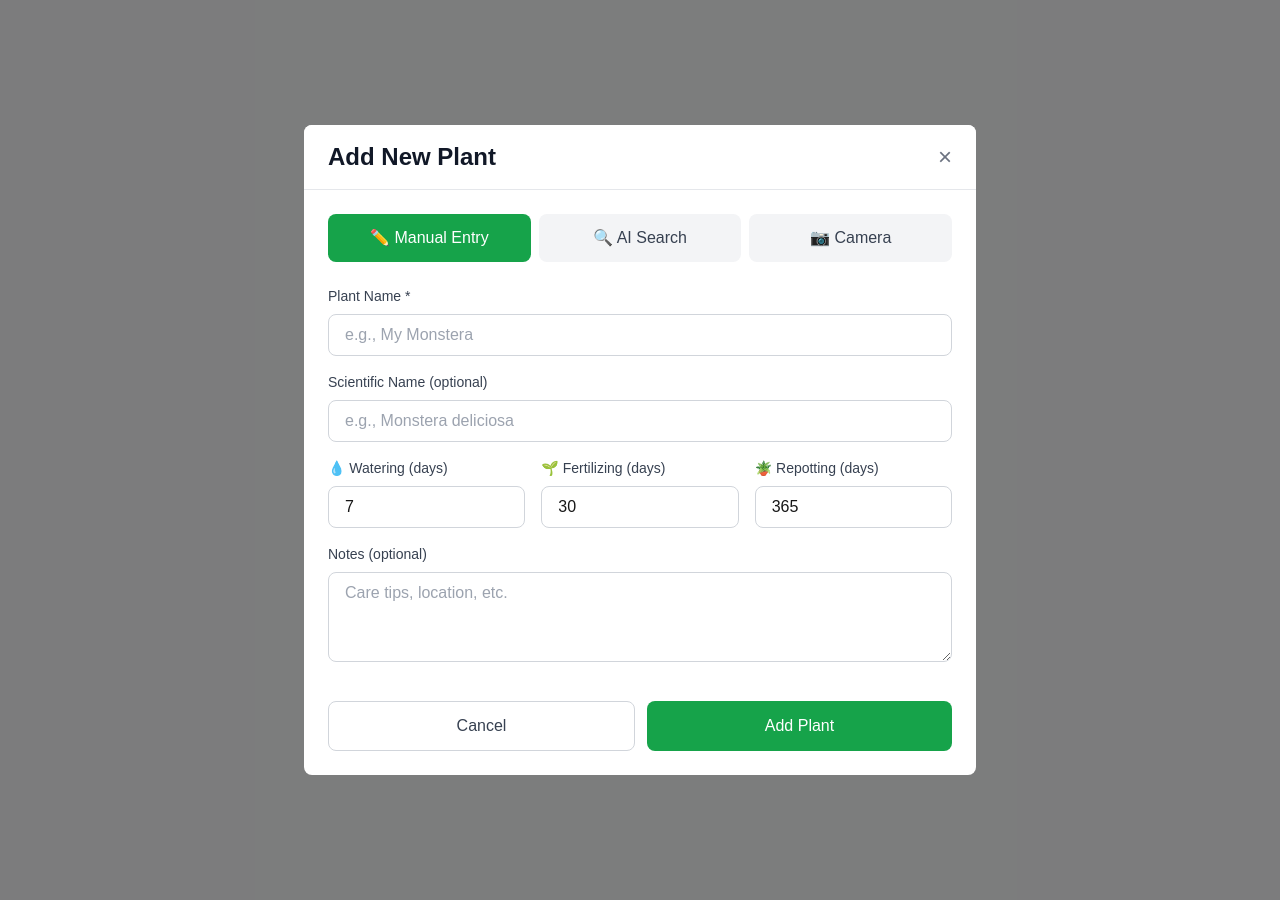
Scenario: AddPlantModal › shows the API-provided error instead of blaming the API key (ISSUES.md #18)
Click the button "🔍 AI Search" at [640, 238], box [539,214,741,262]
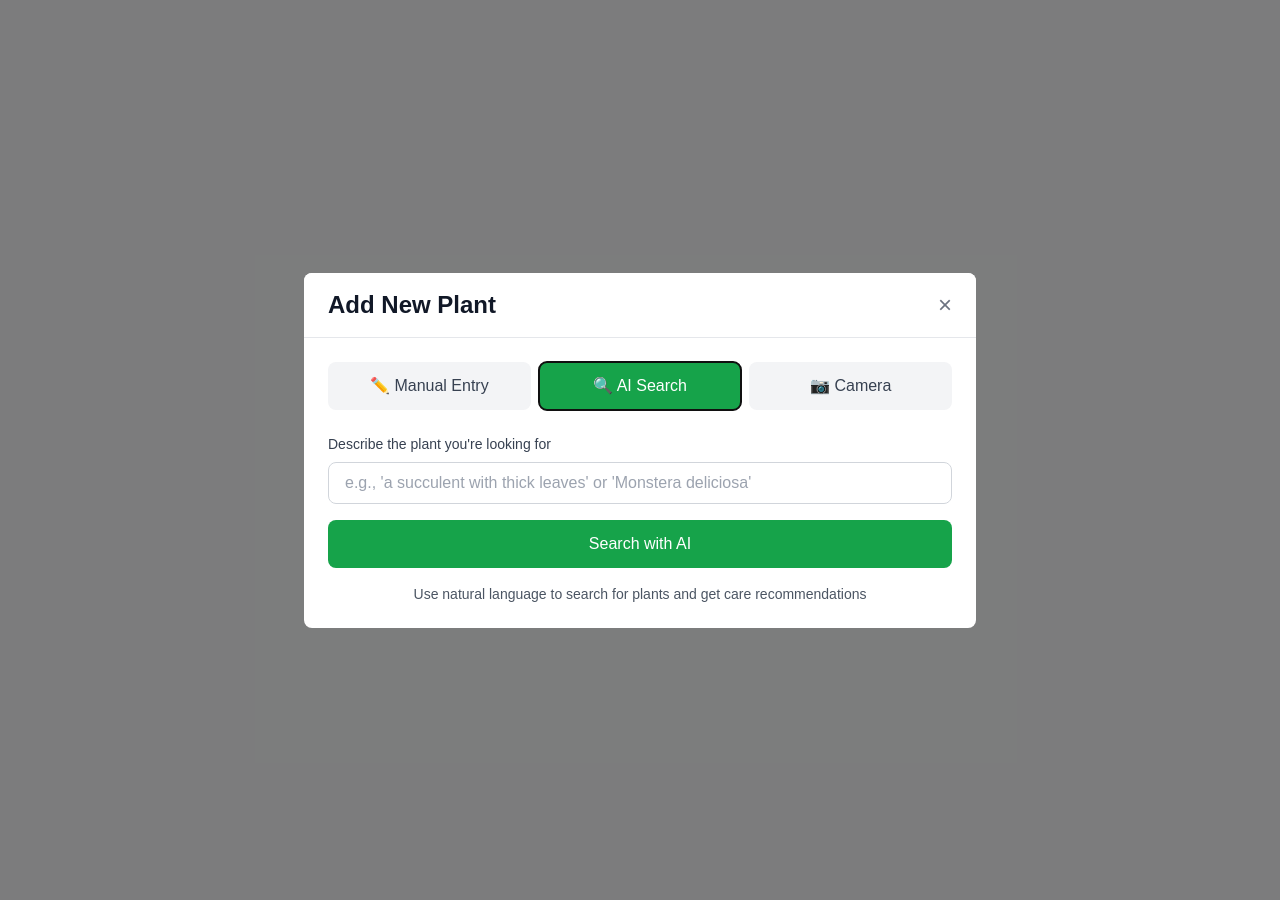
Type "monstera" into the field with placeholder "a succulent with thick leaves" at [640, 482], box [328,462,952,504]
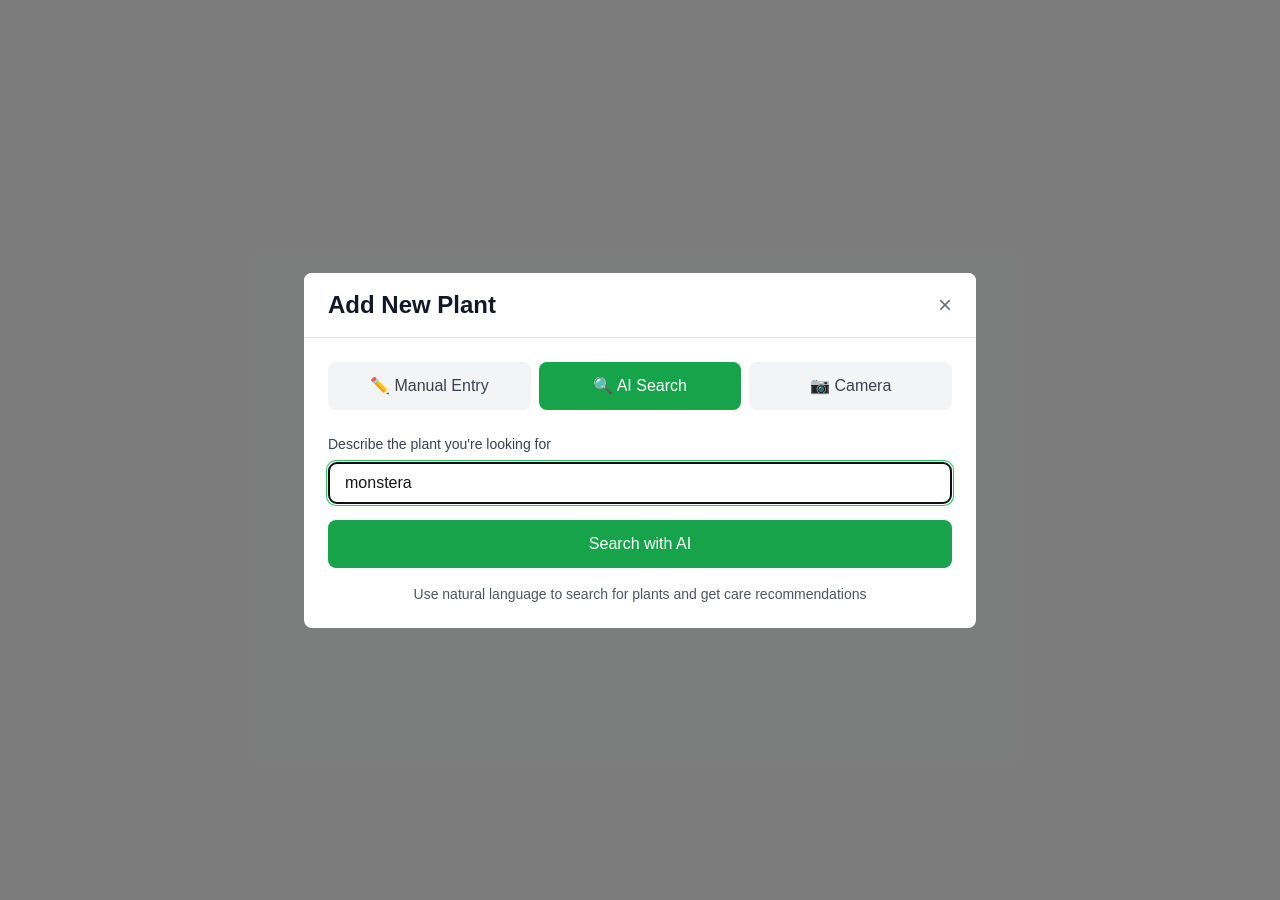
Click the button "Search with AI" at [640, 544], box [328,520,952,568]
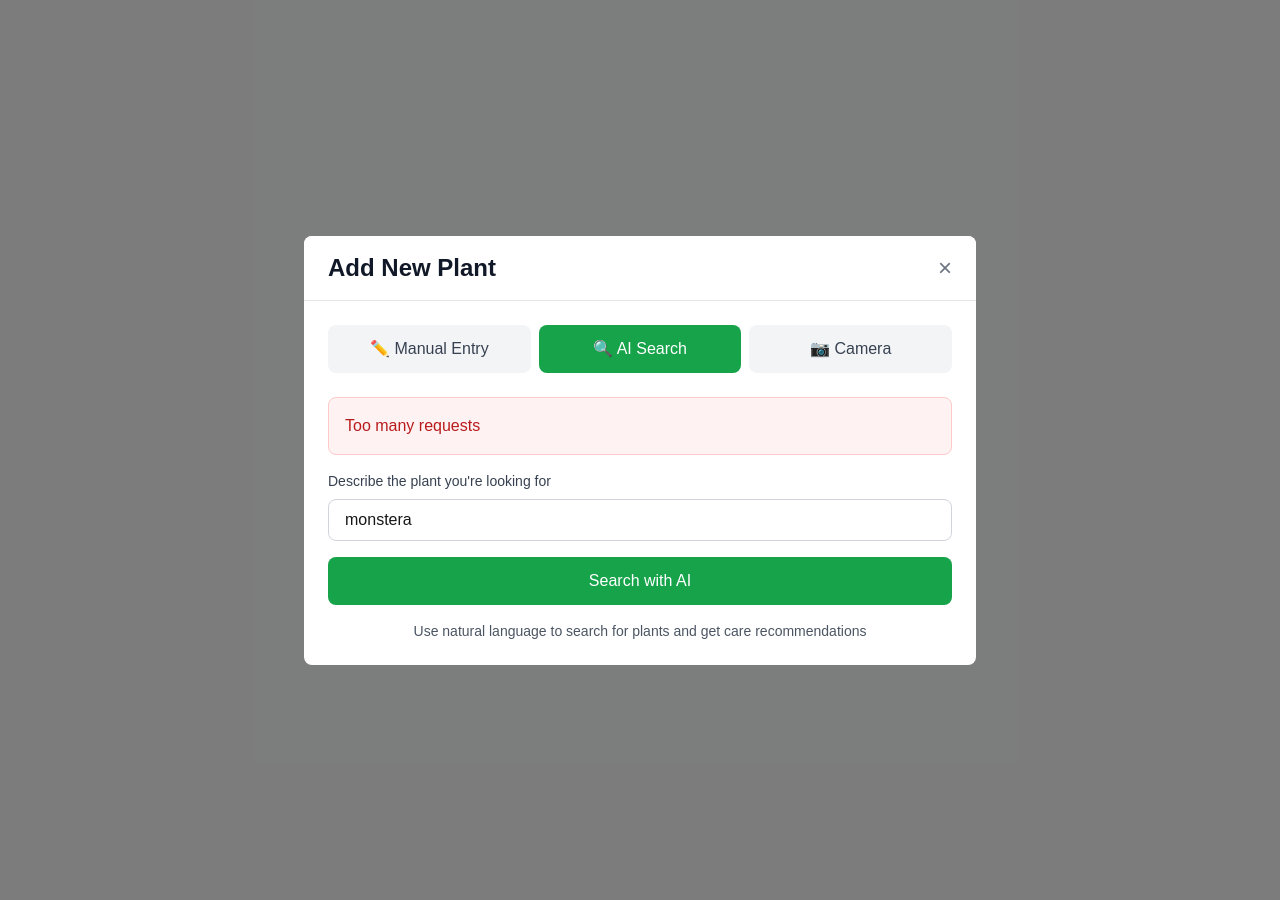
Result: the text "Too many requests" is shown at [328,396,952,454]
